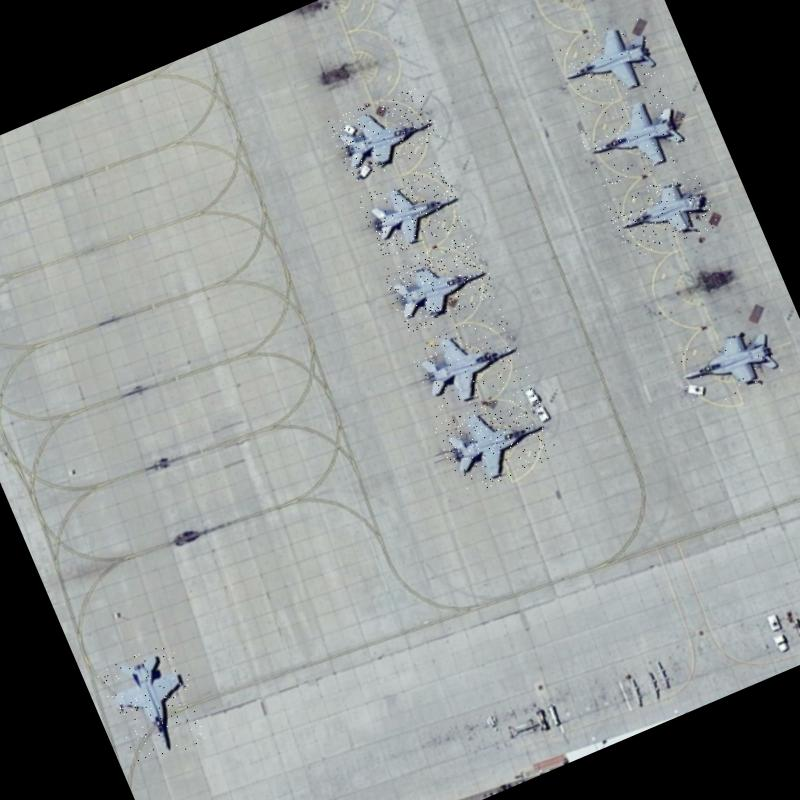A16: (95, 638, 216, 770), (431, 381, 562, 498), (574, 82, 699, 194), (407, 307, 532, 418), (666, 312, 790, 416), (548, 14, 670, 119), (379, 232, 499, 336), (326, 82, 445, 184), (356, 160, 468, 260), (605, 166, 719, 264)
